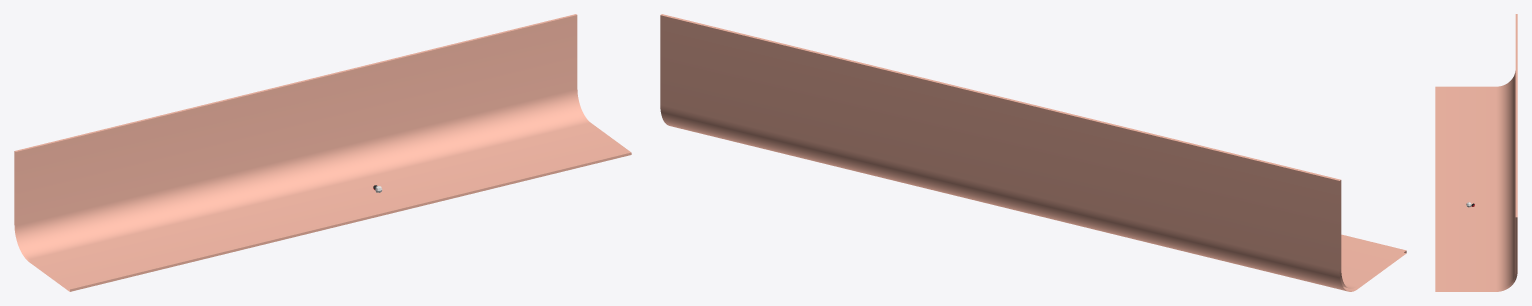
The model's file is changjing.gltf.
The picture shows the model from 3 angles, left to right: view 1: azimuth 30°, elevation 25°; view 2: azimuth 150°, elevation 25°; view 3: azimuth 270°, elevation 25°; orthographic projection. The views are drawn at different scales.
Parts seen in each view (by area): view 1: changjing; view 2: changjing; view 3: changjing.
Part boxes in pixels (x1,y1,x2,y2): changjing: (14, 14, 631, 291); changjing: (660, 14, 1406, 291); changjing: (1435, 14, 1517, 291).
Bounding box in the file's own units: 71.22 × 12.17 × 12.17.
